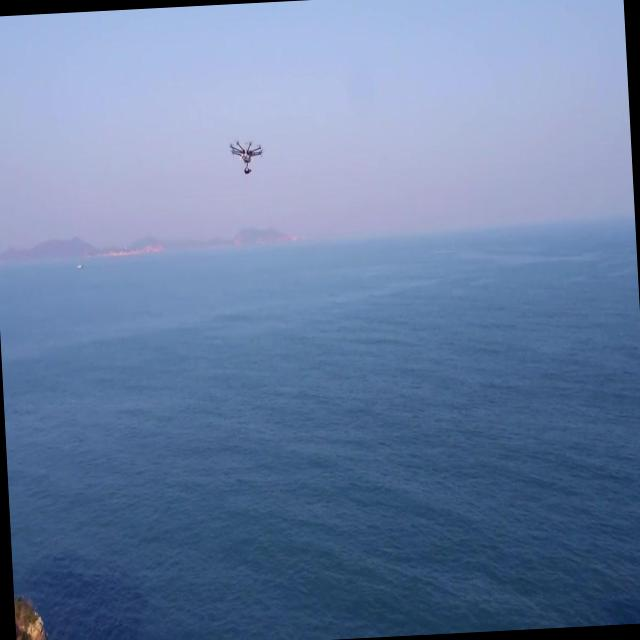drone: (227, 136, 268, 180)
